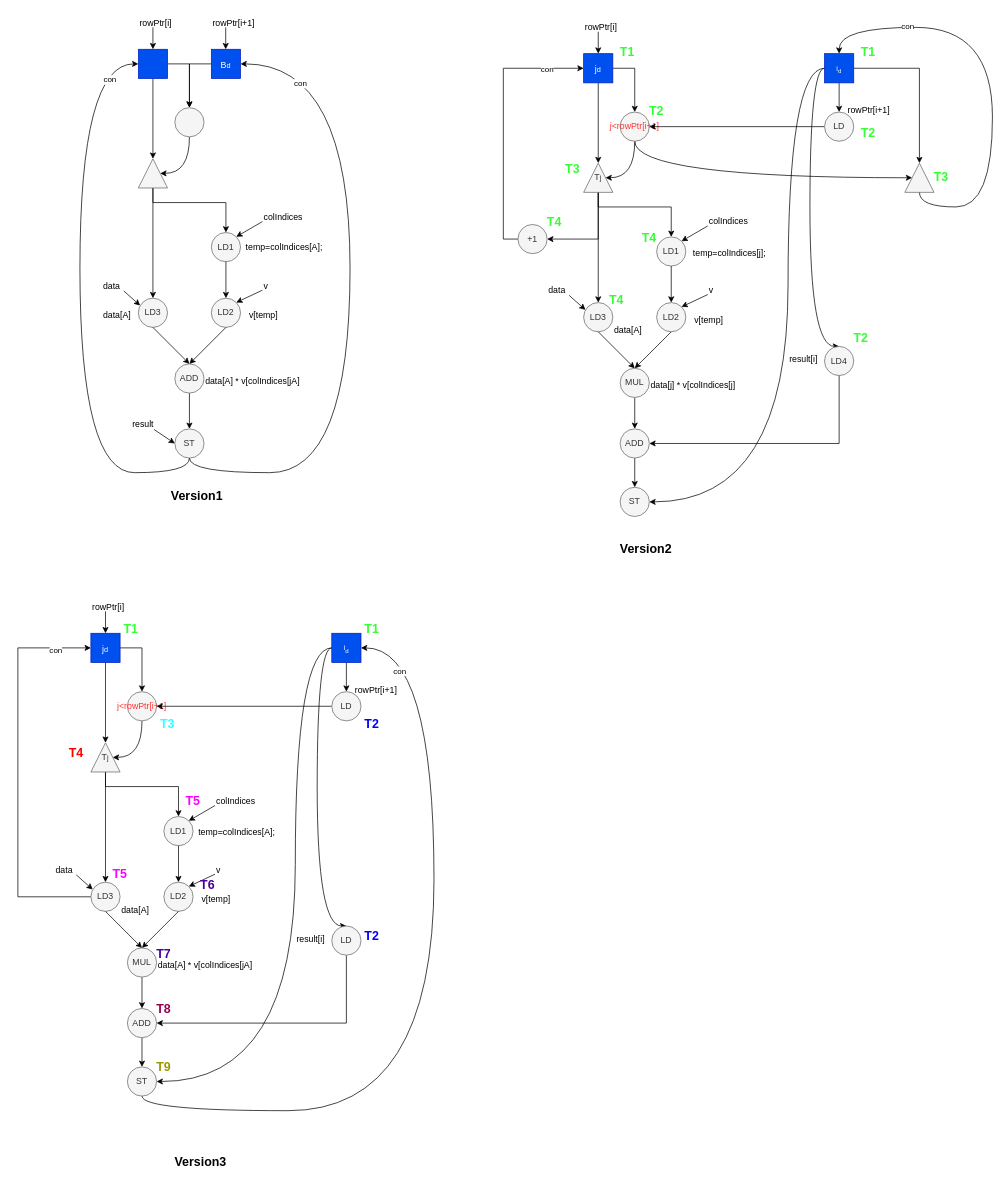
Image size: 1005x1186. Some labels were removed from this diagram. Each missing label, with the centre of its shape:
"A d" goes at [153,63].
"A<B" goes at [189,122].
"T a" goes at [153,173].
"T i" goes at [919,177].
